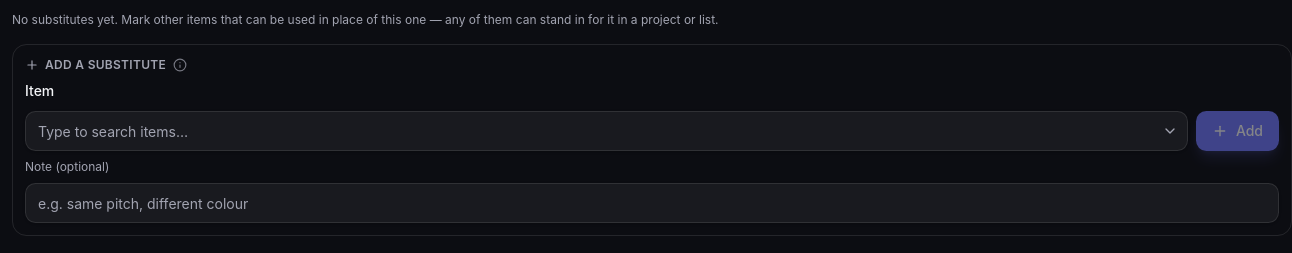
SubstitutionsEditor — add a substitute › excludes the item itself from the picker
Click the dropdown labelled "Item".
click(606, 131)  # box [25, 111, 1188, 151]
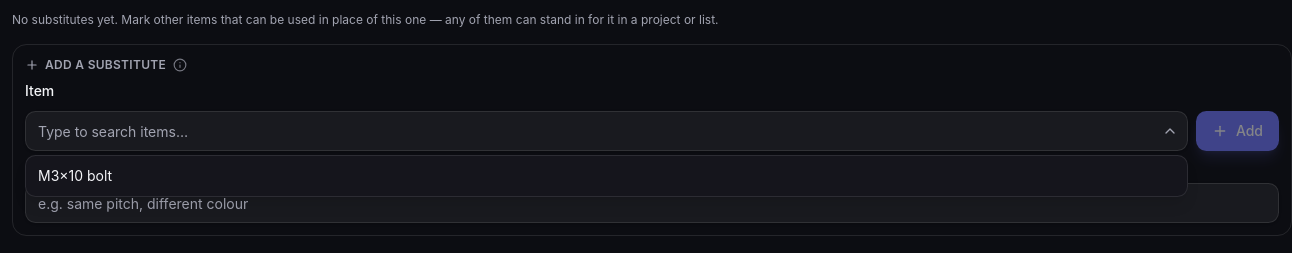
Check: the option "M3×10 bolt" is shown, box [38, 167, 112, 184]
